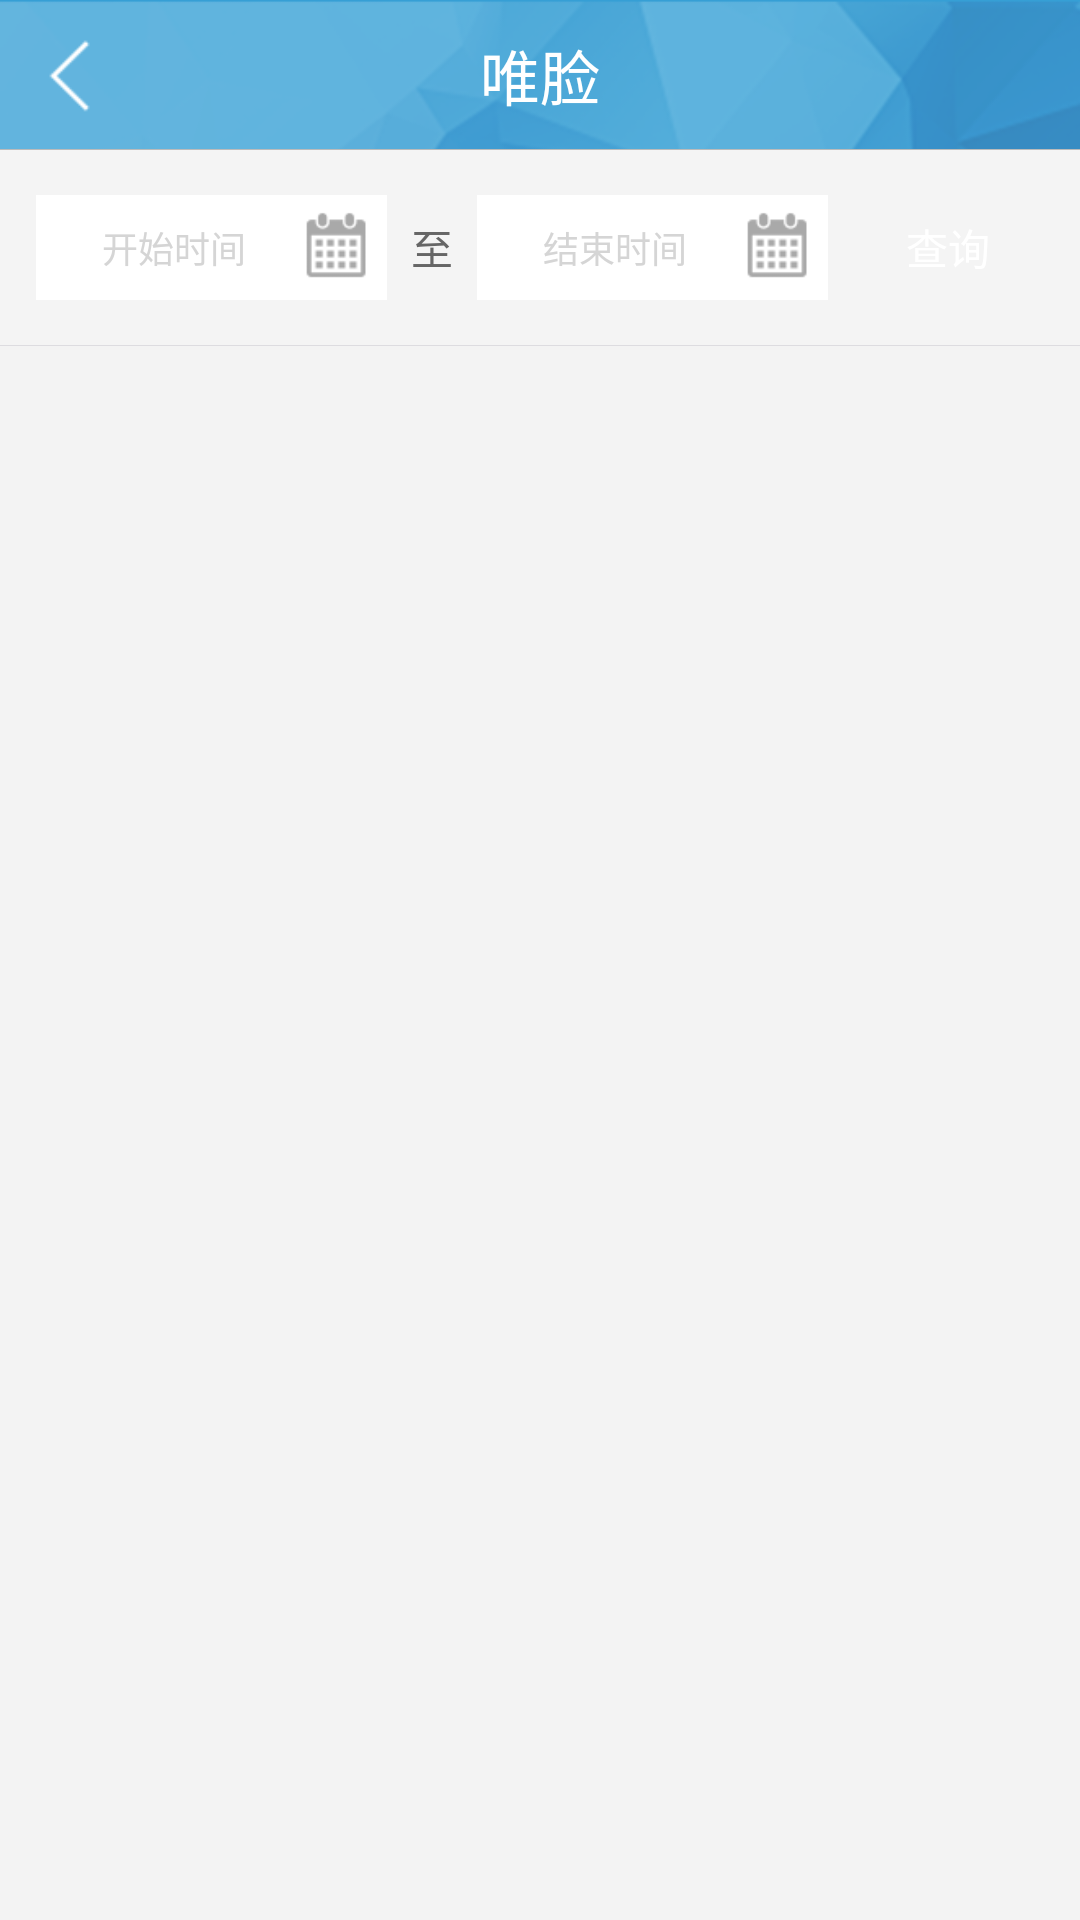

Icons on this 1080px×1920px Android screen, each with its box as box(x1, y1, x2, y2):
back: box(50, 41, 89, 111)
date sign: box(306, 213, 366, 277), box(747, 213, 807, 277)
